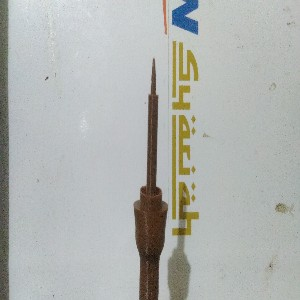solder: (133, 56, 169, 300)
